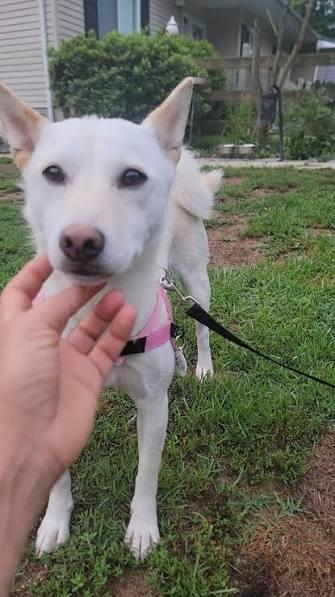adult_dog: (0, 76, 223, 562)
non-dog: (0, 252, 138, 597)
